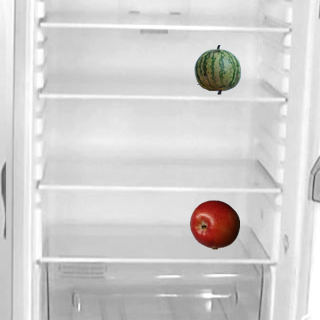Apple Braeburn: (189, 199, 239, 249)
Watermelon: (192, 44, 242, 94)
